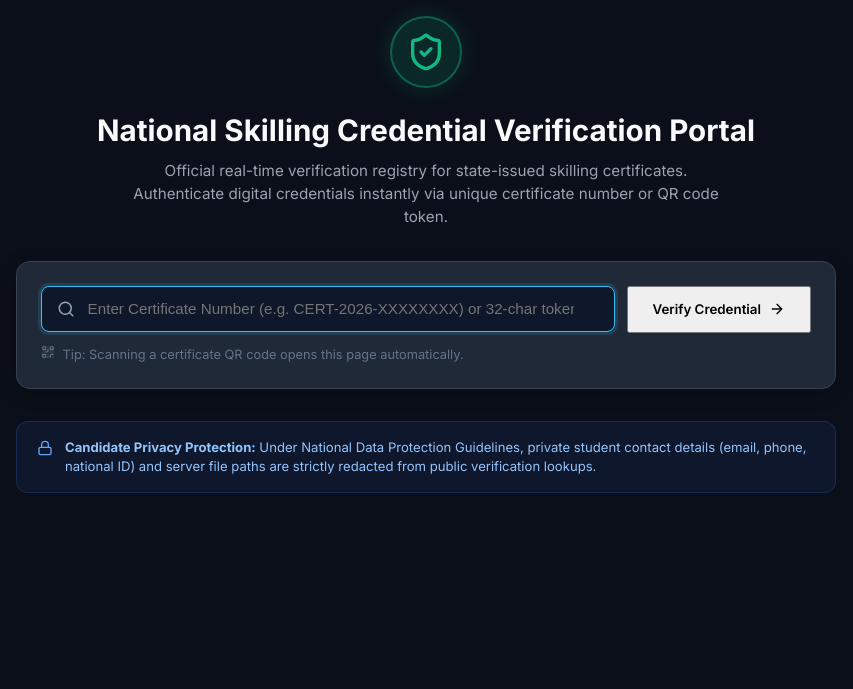
Scenario: PublicVerification Component › displays VALID status and candidate details for authentic certificate
The image size is (853, 689).
Step 1. Replace the text in the field with placeholder "Enter Certificate Number" with "CERT-2026-A1B2C3D4" → (328, 309), box [41,286,614,332]
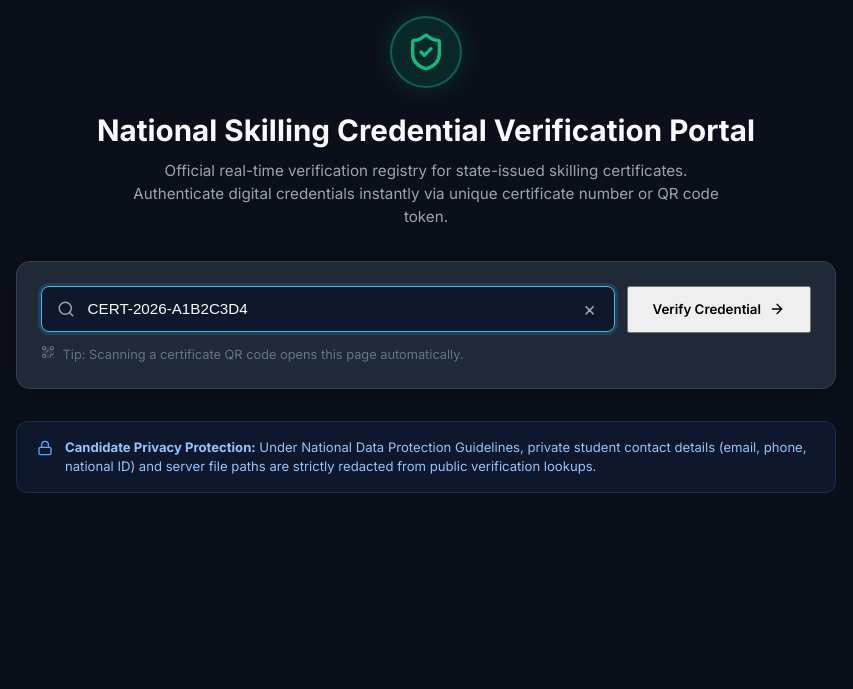
Step 2. Click the button "Verify Credential" → (719, 309), box [626,286,811,333]
(page scrolled)
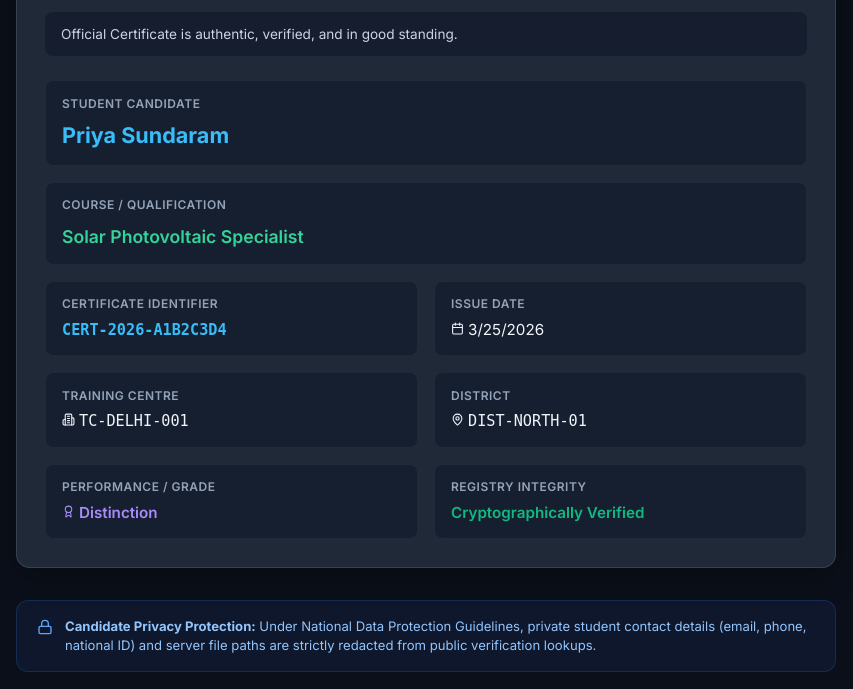
Result: the text "Priya Sundaram" is shown at [62,122,229,148]
Result: the text "Solar Photovoltaic Specialist" is shown at [62,226,304,247]
Result: the text "CERT-2026-A1B2C3D4" is shown at [62,321,227,339]
